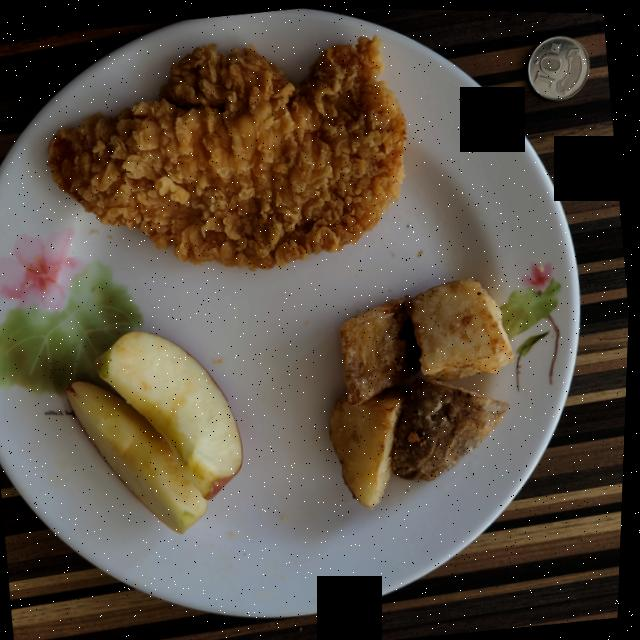apple -sliced-: (69, 329, 246, 531)
coin: (527, 32, 590, 97)
fried chicken cutlet: (49, 34, 406, 267)
fried potato: (332, 276, 516, 505)
